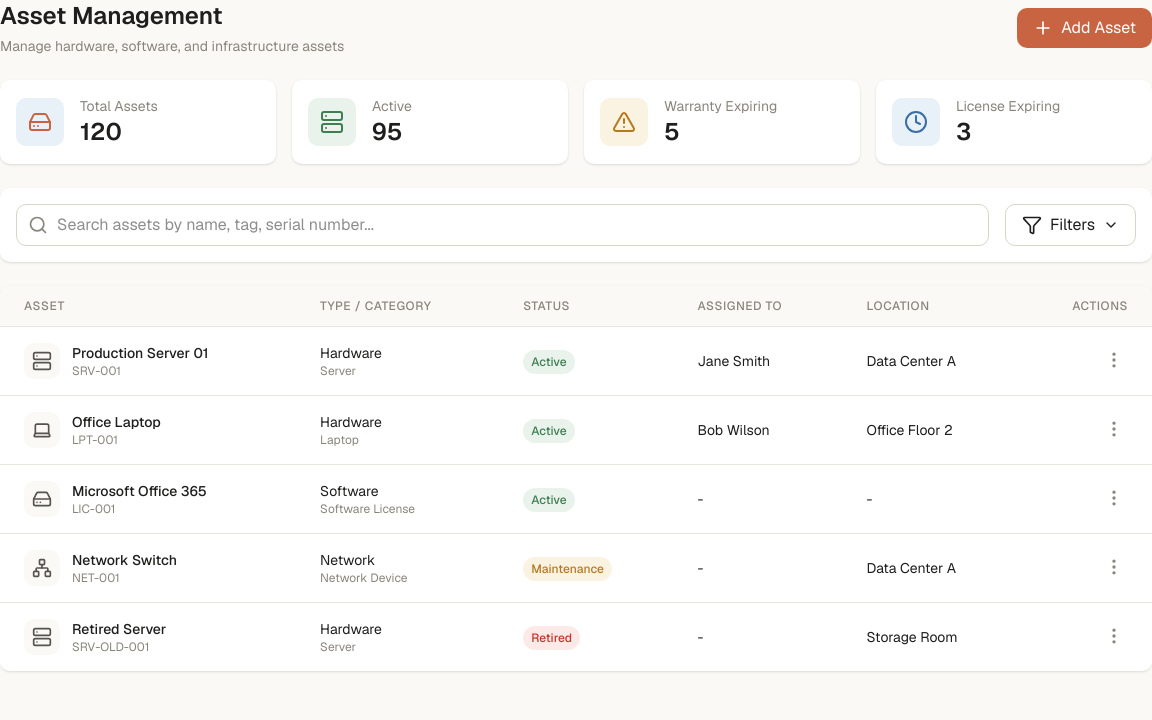
Scenario: AssetsPage › Create Asset Modal › should open create modal when clicking Add Asset
The image size is (1152, 720).
What coordinates should you click on to do the following:
click the button "Add Asset"
I would click on:
 (1085, 28)
Its box is [1017,8,1151,48].
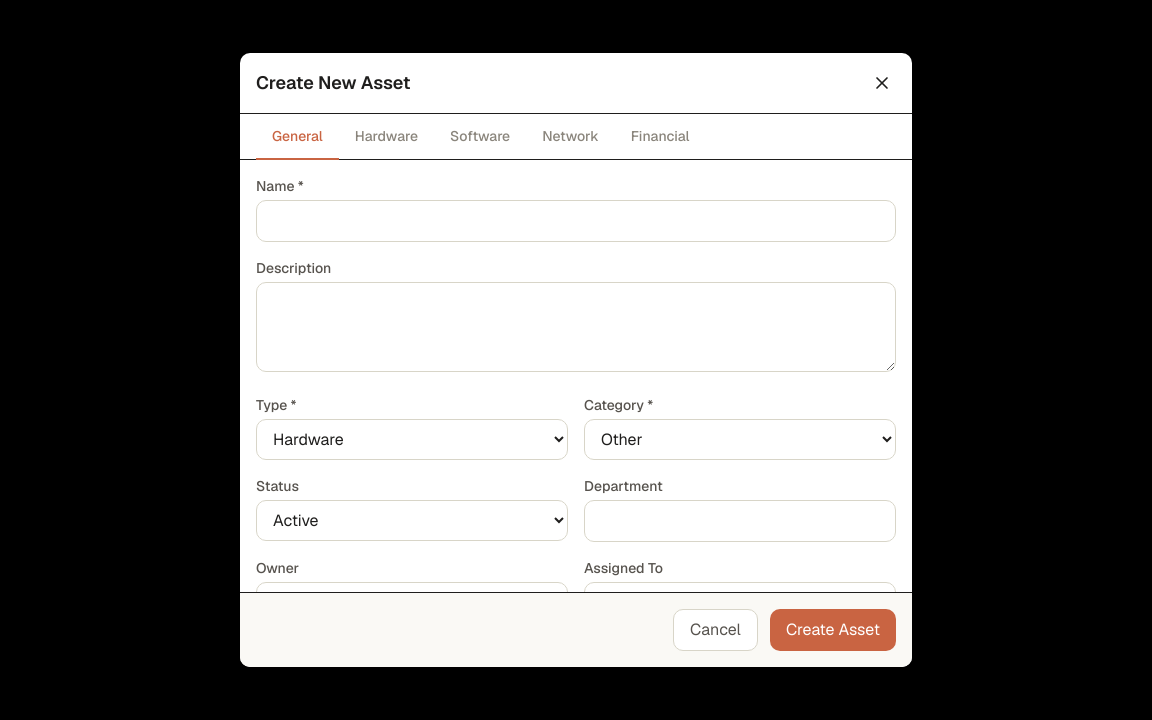
expect the heading "Create New Asset" is shown: met, box [256,69,411,97]
